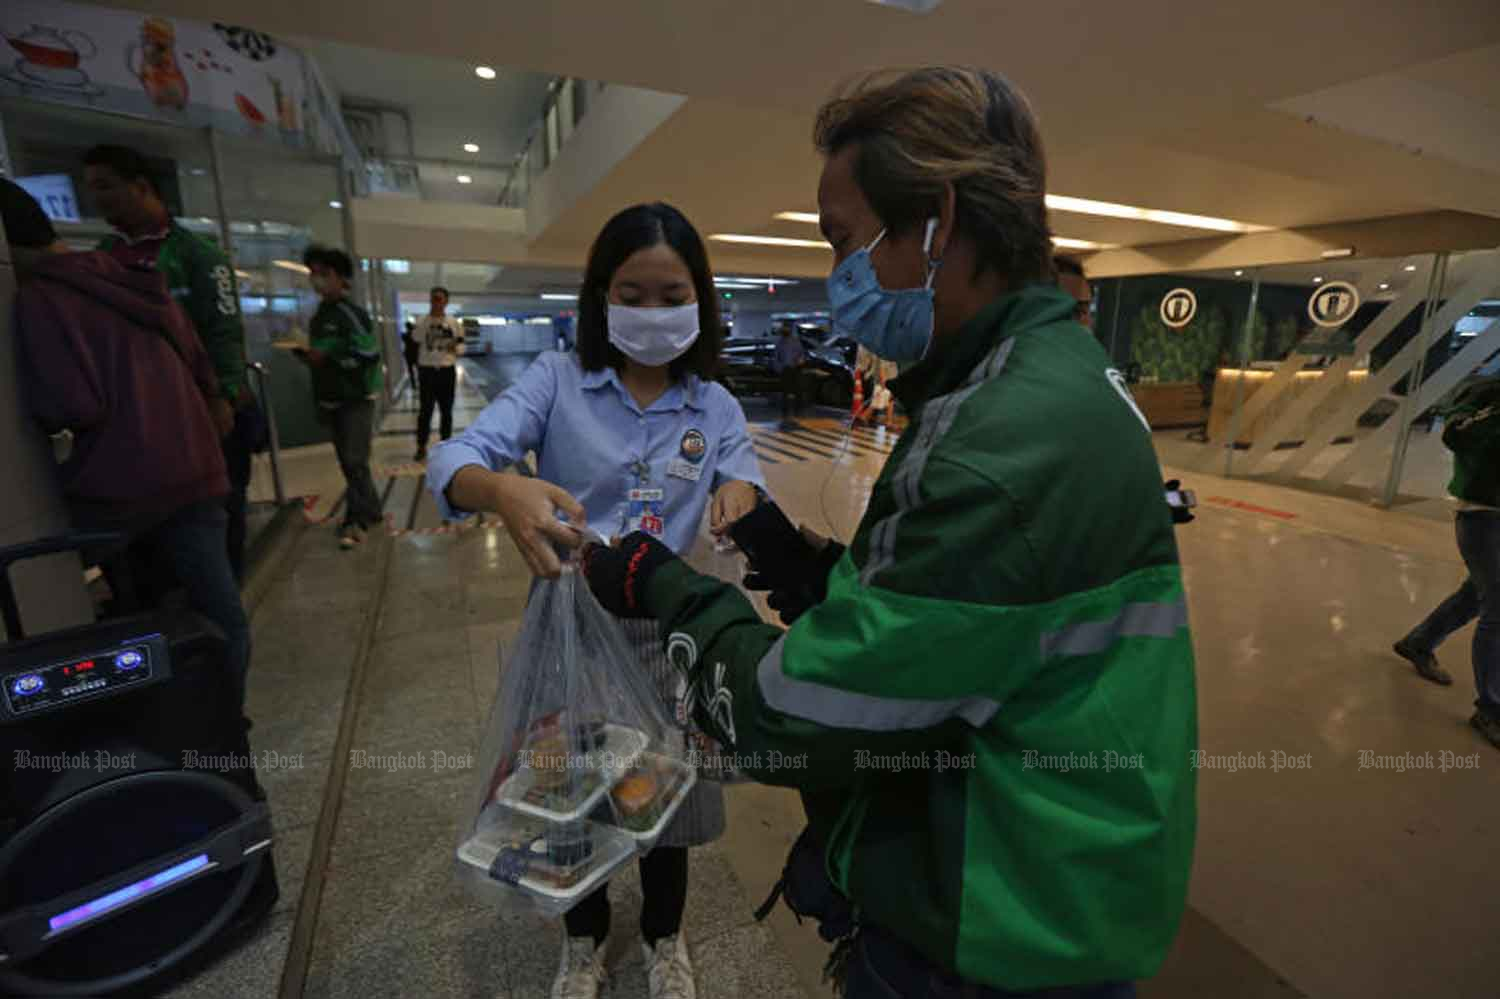plastic_bagwdw: (384, 544, 783, 961)
